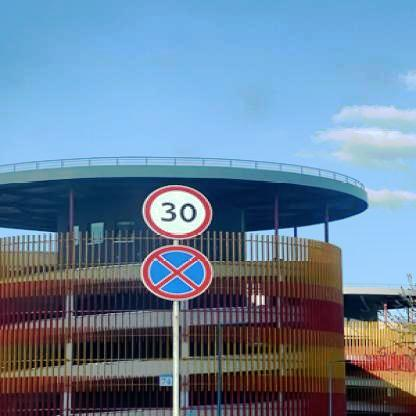Speed Limit -30-: (141, 184, 215, 240)
